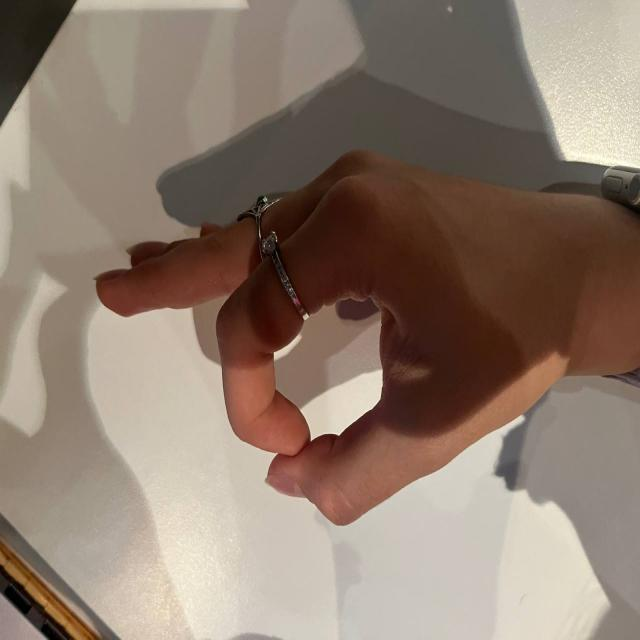o: (80, 154, 544, 518)
